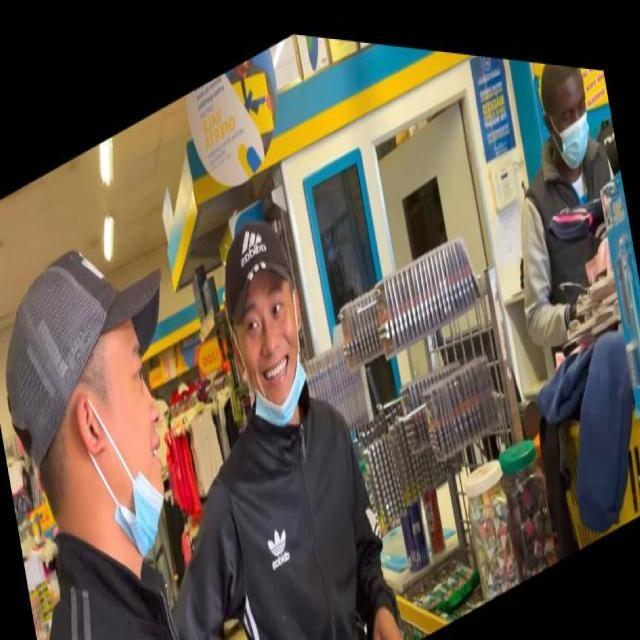hairnet: (87, 320, 181, 571), (233, 261, 313, 438)
